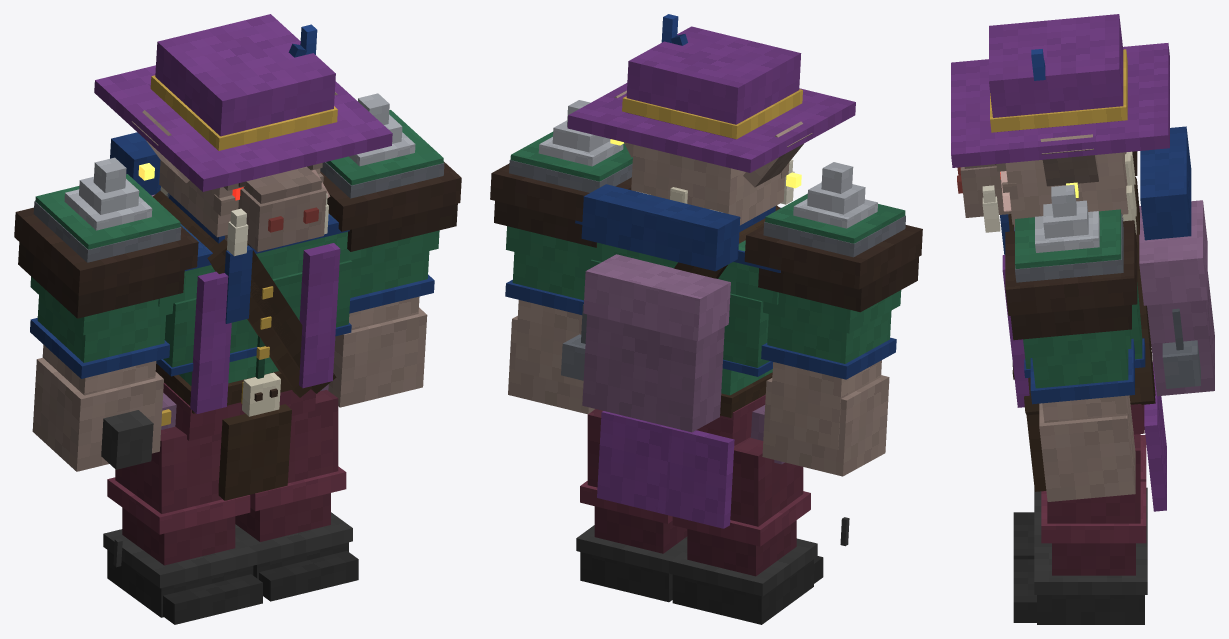
The model's file is orc_marchand_v3.glb.
3 renders of one model, left to right at view 1: azimuth 30°, elevation 25°; view 2: azimuth 150°, elevation 25°; view 3: azimuth 270°, elevation 25°, orthographic. The views are drawn at different scales.
Parts seen in each view (by area): view 1: Head, Torso, ArmR, ArmL, LegR, LegL, HandR; view 2: Torso, ArmR, Head, ArmL, LegR, LegL; view 3: Head, ArmL, Torso, LegL, LegR.
Boxes of the visible parts, bbox=[...] form: Head: bbox=[94, 14, 392, 256]; Torso: bbox=[110, 132, 366, 500]; ArmR: bbox=[14, 157, 198, 471]; ArmL: bbox=[320, 93, 461, 407]; LegR: bbox=[103, 426, 262, 624]; LegL: bbox=[235, 390, 358, 601]; HandR: bbox=[101, 410, 153, 567]; Torso: bbox=[561, 184, 784, 528]; ArmR: bbox=[744, 162, 922, 476]; Head: bbox=[567, 14, 855, 232]; ArmL: bbox=[490, 100, 632, 414]; LegR: bbox=[669, 437, 823, 624]; LegL: bbox=[576, 409, 687, 602]; Head: bbox=[951, 14, 1169, 232]; ArmL: bbox=[1005, 184, 1137, 501]; Torso: bbox=[1000, 126, 1214, 511]; LegL: bbox=[1013, 434, 1147, 624]; LegR: bbox=[1013, 435, 1147, 559].
Size of the model in its own units: 1.44 by 1.99 by 0.8605.
Materials: 42 (42 with a texture image).
